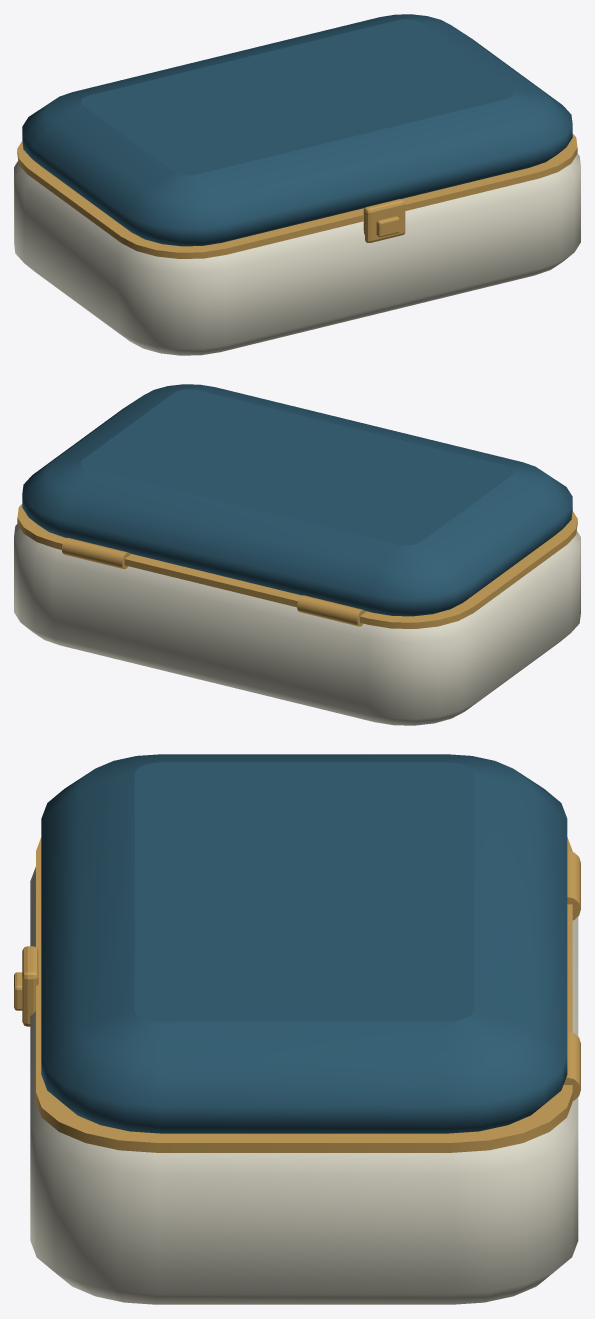
Rendered from jewellery_box.glb.
The picture shows the model from 3 angles, top to bottom: view 1: azimuth 30°, elevation 25°; view 2: azimuth 150°, elevation 25°; view 3: azimuth 270°, elevation 25°; orthographic projection. The views are drawn at different scales.
Visible parts, largest first — view 1: Lid, Body, BrassRim, Clasp; view 2: Lid, Body, BrassRim, Hinge_0, Hinge_1; view 3: Lid, Body, BrassRim, Clasp, Hinge_1, Hinge_0.
Part boxes in pixels (x1,y1,x2,y2): Lid: (22,14,572,246); Body: (14,154,580,355); BrassRim: (17,134,577,258); Clasp: (363,199,405,242); Lid: (22,384,572,616); Body: (14,524,580,725); BrassRim: (17,504,577,628); Hinge_0: (297,595,365,626); Hinge_1: (61,537,130,569); Lid: (41,754,567,1133); Body: (30,867,578,1304); BrassRim: (36,837,572,1152); Clasp: (22,946,38,1026); Hinge_1: (563,1031,580,1100); Hinge_0: (567,850,580,920).
Size of the model in its own units: 0.15 by 0.05 by 0.1035.
